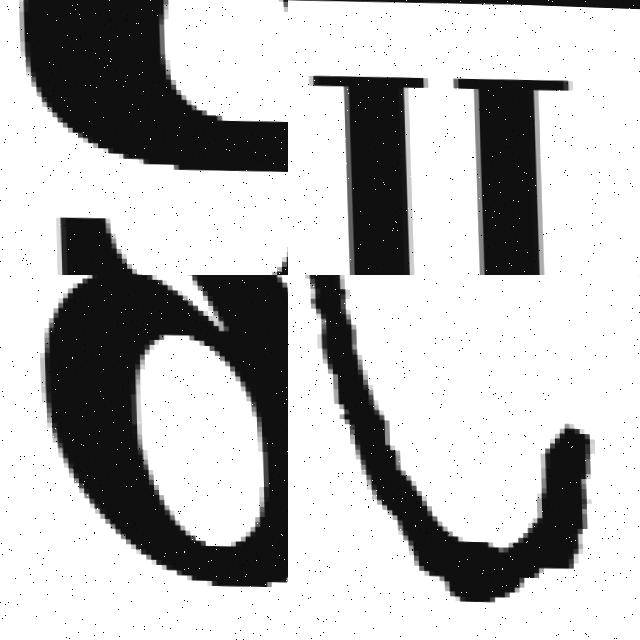9: (0, 275, 288, 599)
A: (3, 0, 288, 275)
C: (308, 275, 592, 598)
H: (312, 73, 427, 275), (452, 74, 557, 275)
